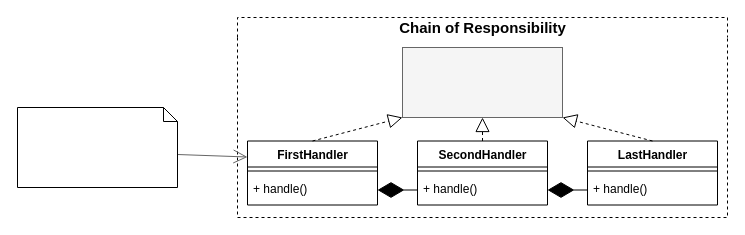
This 745x235 diagram has some shape labels left out. The centre of each missing label's shape, as x and y in pixels:
<<Interface>> Handler + handle(): the point at 482,82
Context object = new FirstHandler() object.handle(): the point at 97,147
